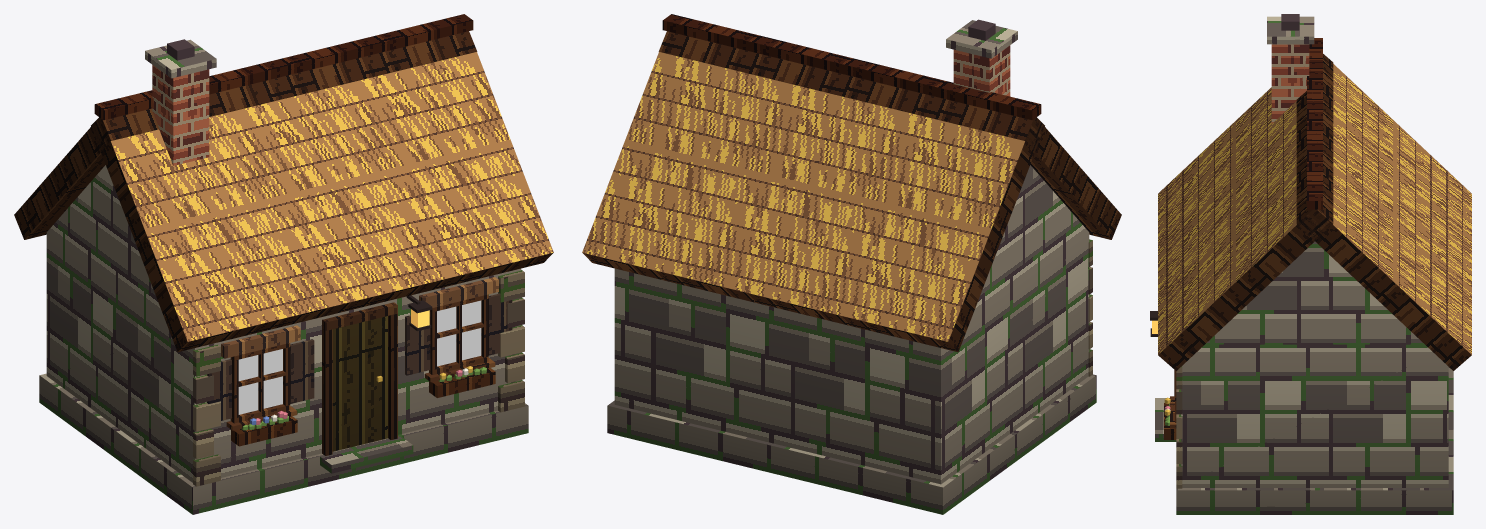
File: cottage_stone.glb
3 views of the same model, side by side, from view 1: azimuth 30°, elevation 25°; view 2: azimuth 150°, elevation 25°; view 3: azimuth 270°, elevation 25° (orthographic). The views are drawn at different scales.
Visible parts, largest first — view 1: cottage_stone; view 2: cottage_stone; view 3: cottage_stone.
Part boxes in pixels (left/top/right/bottom): cottage_stone: left=14, top=14, right=553, bottom=514; cottage_stone: left=582, top=14, right=1121, bottom=514; cottage_stone: left=1150, top=14, right=1471, bottom=514.
Bounding box in the file's own units: 6.34 × 6.74 × 5.29.
Materials: 7 (4 with a texture image).
